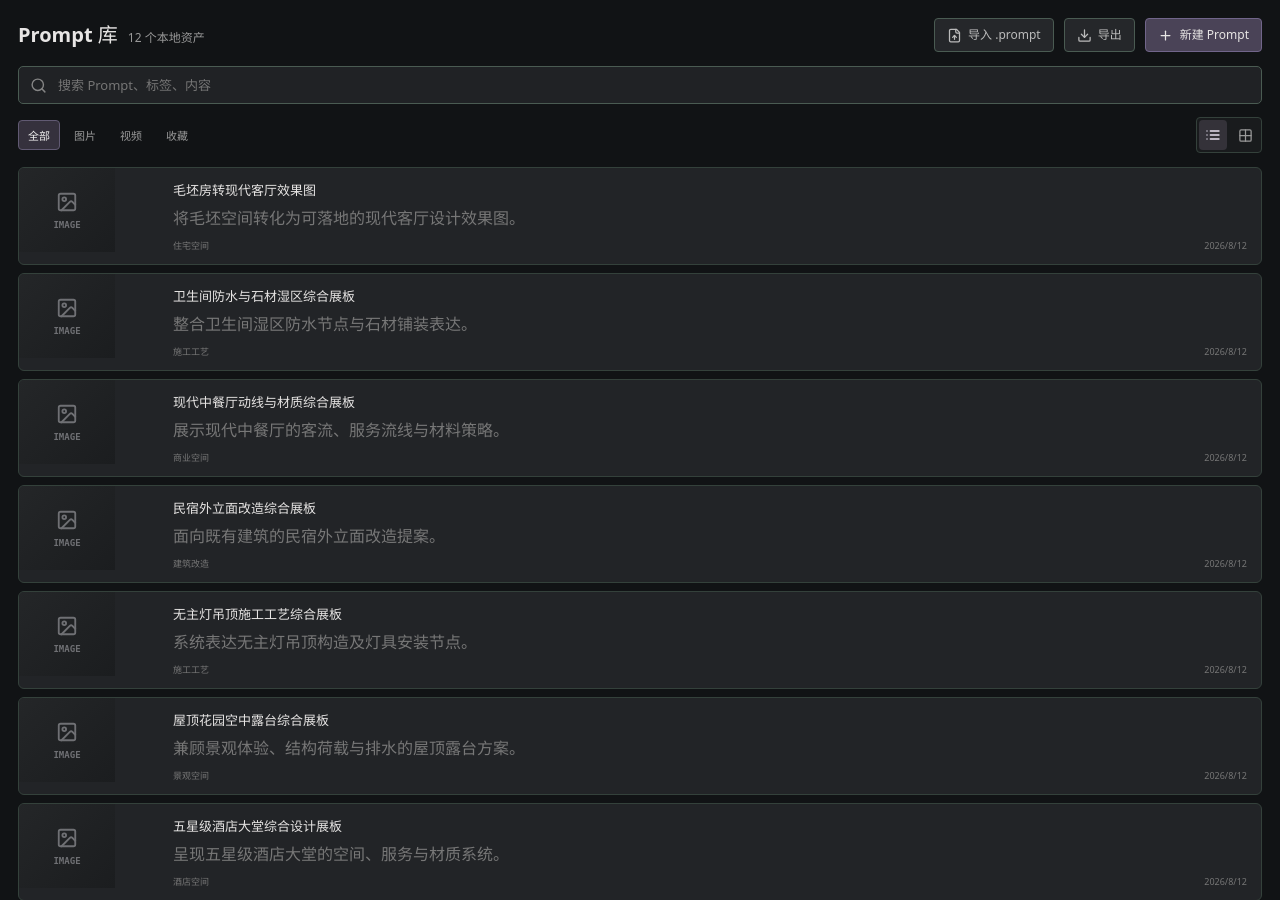
Test: LibraryPage › filters local Prompts by image, video, and favorite
Click the button "图片" at (85, 135), box [64,120,106,150]
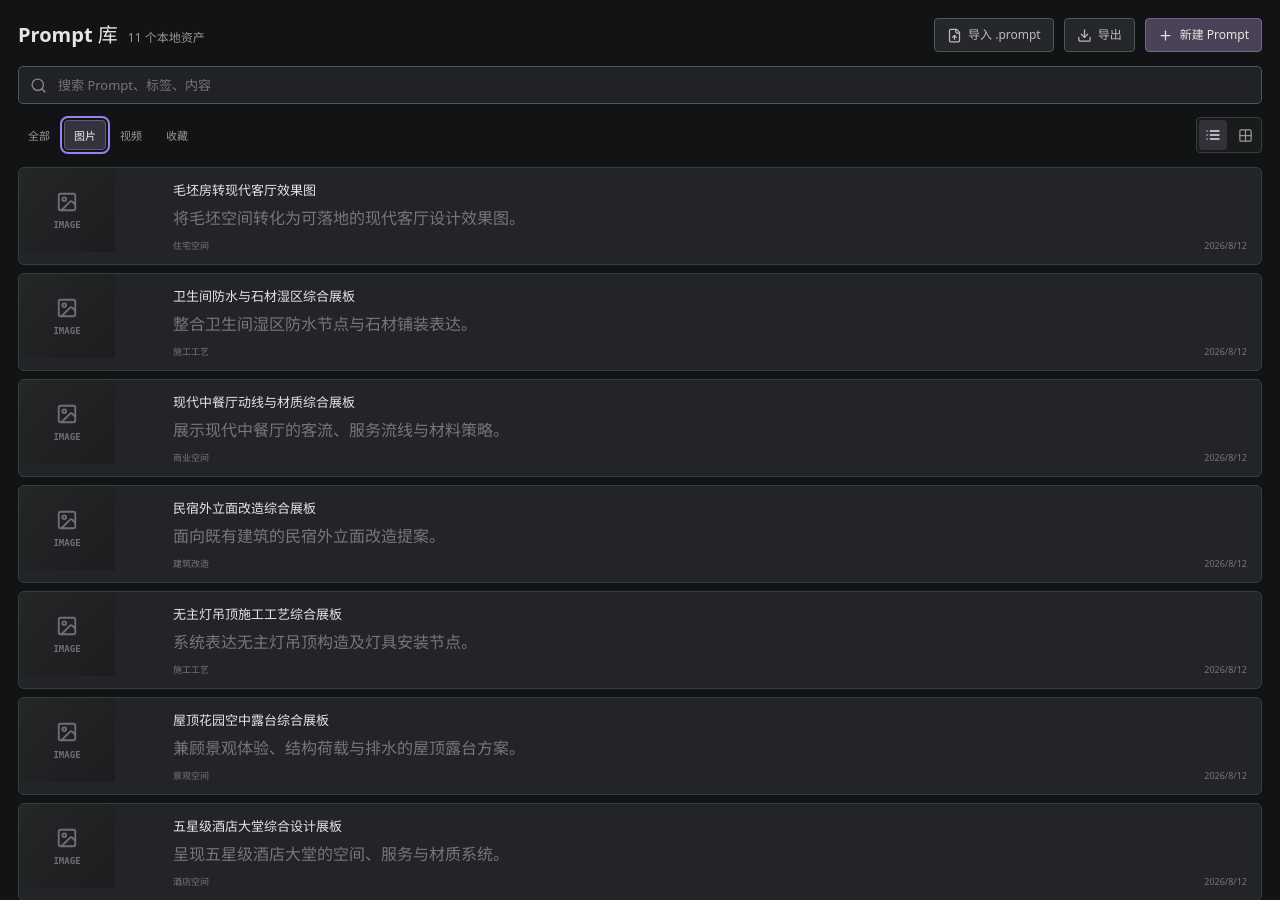
expect the text "本地视频" is not shown: met
Click the button "收藏" at (177, 135), box [156,120,198,150]
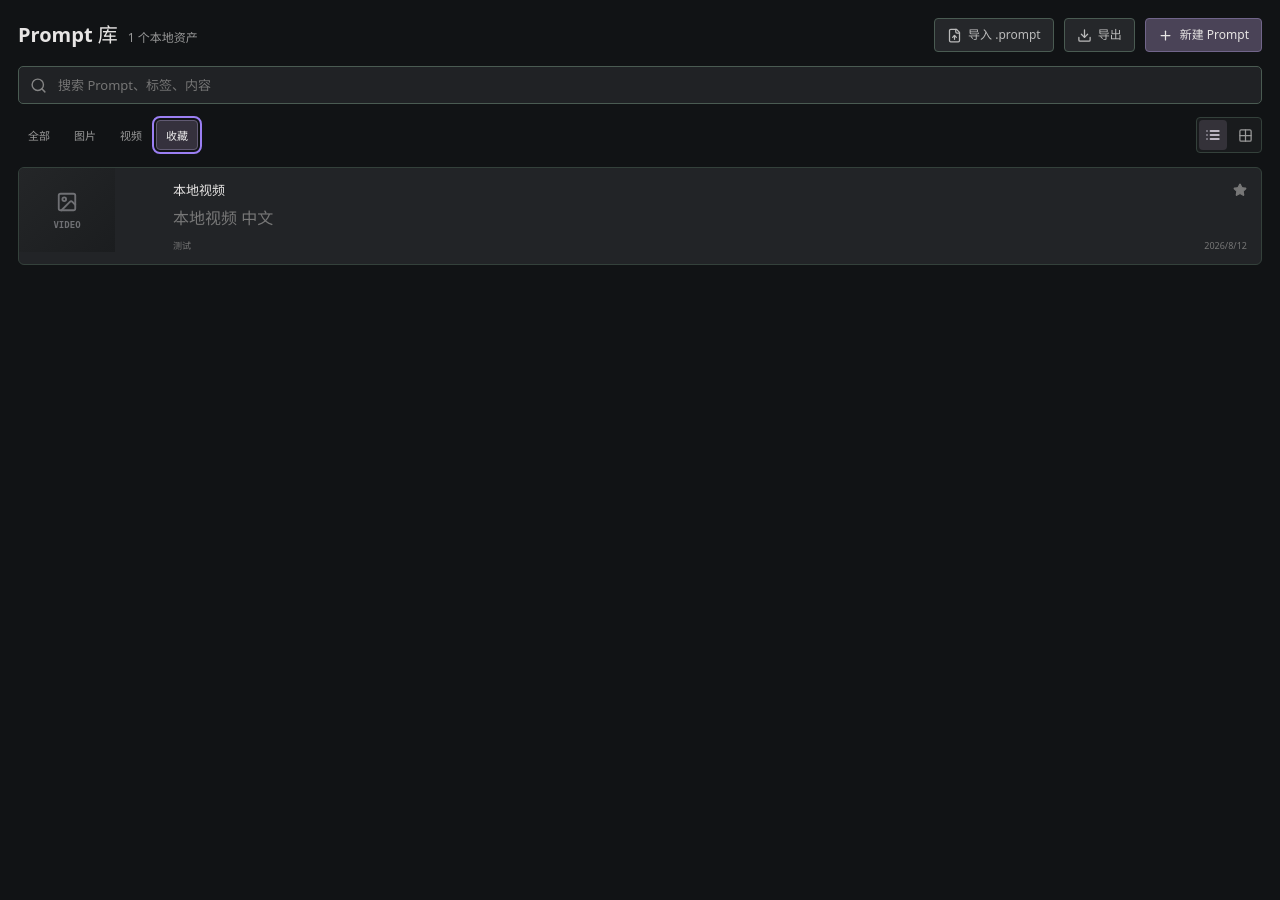
expect the heading "本地视频" is shown: met, box [173,180,225,199]
